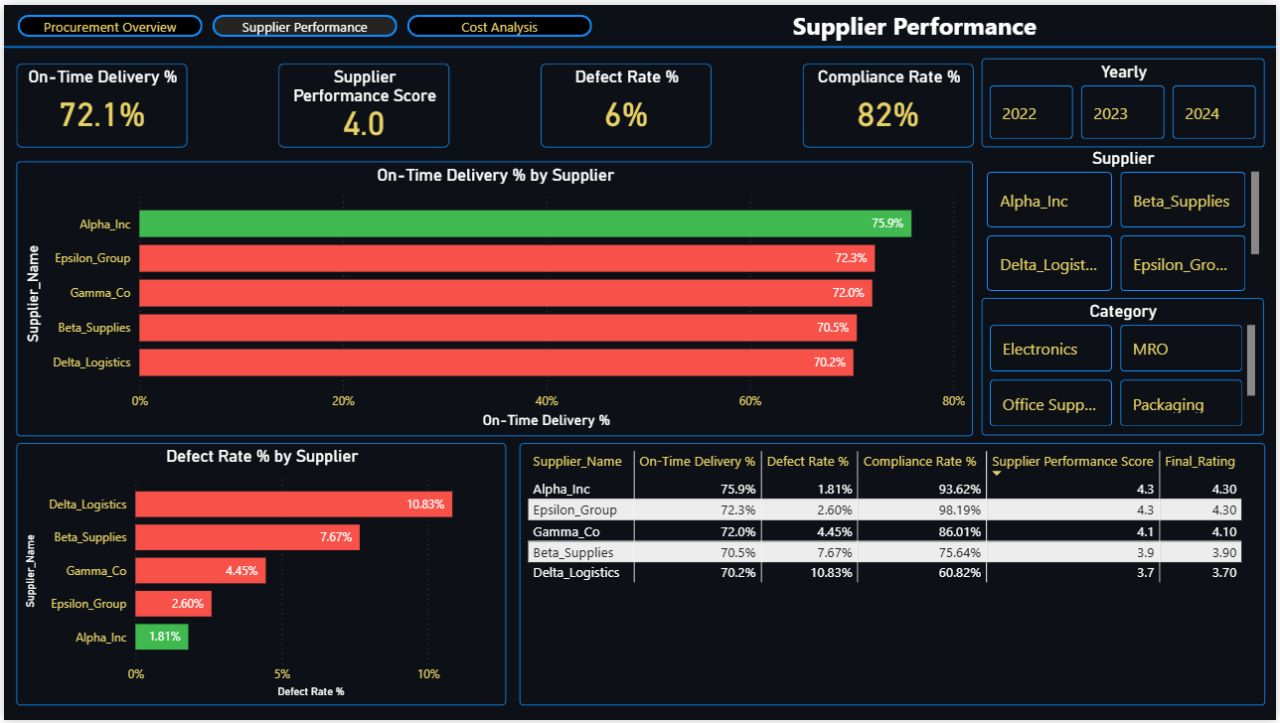

The dashboard page shown, as its layout file describes it:
{"tool":"powerbi","page":{"name":"Supplier Performance","canvas":[1280,720],"ordinal":1},"visuals":[{"type":"textbox","box":[552.3,0,727.7,42],"z":0},{"type":"shape","box":[0,36,1280,12],"z":1000},{"type":"advanceCardE03760C5AB684758B56AA29F9E6C257B","title":"Defect Rate %","fields":{"mainMeasure":["_Measures.Defect Rate %"]},"box":[539.9,58.1,172.1,84.9],"z":2000},{"type":"advanceCardE03760C5AB684758B56AA29F9E6C257B","title":"On-Time Delivery %","fields":{"mainMeasure":["_Measures.On-Time Delivery %"]},"box":[12.8,58.1,172.1,84.9],"z":3000},{"type":"advanceCardE03760C5AB684758B56AA29F9E6C257B","title":"Compliance Rate %","fields":{"mainMeasure":["_Measures.Compliance Rate %"]},"box":[803.5,58.1,172.1,84.9],"z":4000},{"type":"advanceCardE03760C5AB684758B56AA29F9E6C257B","title":"Supplier Performance Score","fields":{"mainMeasure":["_Measures.Supplier Performance Score"]},"box":[276.4,58.1,172.1,84.9],"z":5000},{"type":"clusteredBarChart","title":"On-Time Delivery % by Supplier","fields":{"Category":["Suppliers. Supplier_Name"],"Y":["_Measures.On-Time Delivery %"]},"box":[12.8,157,962.8,276.7],"z":6000},{"type":"clusteredBarChart","title":"Defect Rate % by Supplier","fields":{"Category":["Suppliers. Supplier_Name"],"Y":["_Measures.Defect Rate %"]},"box":[12.8,441.9,493,264],"z":7000},{"type":"tableEx","fields":{"Values":["Suppliers. Supplier_Name","_Measures.On-Time Delivery %","_Measures.Defect Rate %","_Measures.Compliance Rate %","_Measures.Supplier Performance Score","Suppliers. Final_Rating"]},"box":[518.6,441.9,750,264],"z":8000},{"type":"advancedSlicerVisual","title":" Yearly","fields":{"Values":["Date_Table.Date.Variation.Date Hierarchy.Year"]},"box":[983.7,53.5,284.9,89.5],"z":9000},{"type":"advancedSlicerVisual","title":"Category","fields":{"Values":["Products.Category"]},"box":[983.7,295.3,283.7,138.4],"z":10000},{"type":"advancedSlicerVisual","title":"Supplier","fields":{"Values":["Suppliers. Supplier_Name"]},"box":[983.7,144.2,284.9,151.2],"z":11000},{"type":"pageNavigator","box":[13.2,9.6,580,22.8],"z":12000}]}

Visuals, with their boxes in screenshot pixels (x1, y1, x2, y2), scaled from the page's 1280x720 canvas onto the 1280x723 screenshot:
textbox: rect(552, 0, 1279, 42)
shape: rect(0, 36, 1279, 48)
"Defect Rate %" advanceCardE03760C5AB684758B56AA29F9E6C257B: rect(540, 58, 712, 144)
"On-Time Delivery %" advanceCardE03760C5AB684758B56AA29F9E6C257B: rect(13, 58, 185, 144)
"Compliance Rate %" advanceCardE03760C5AB684758B56AA29F9E6C257B: rect(804, 58, 976, 144)
"Supplier Performance Score" advanceCardE03760C5AB684758B56AA29F9E6C257B: rect(276, 58, 448, 144)
"On-Time Delivery % by Supplier" clusteredBarChart: rect(13, 158, 976, 436)
"Defect Rate % by Supplier" clusteredBarChart: rect(13, 444, 506, 709)
tableEx - Suppliers. Supplier_Name x _Measures.On-Time Delivery %: rect(519, 444, 1269, 709)
" Yearly" advancedSlicerVisual: rect(984, 54, 1269, 144)
"Category" advancedSlicerVisual: rect(984, 297, 1267, 436)
"Supplier" advancedSlicerVisual: rect(984, 145, 1269, 297)
pageNavigator: rect(13, 10, 593, 33)
